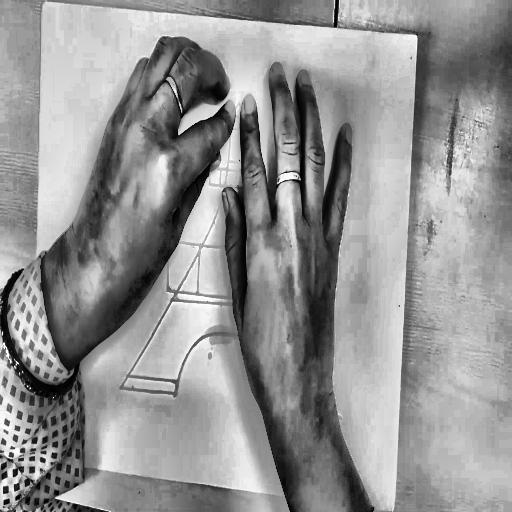bottom_left: (27, 455, 32, 465)
eiffel-tower: (115, 84, 360, 427)
top_left: (41, 0, 45, 6)
top_right: (414, 31, 420, 42)
